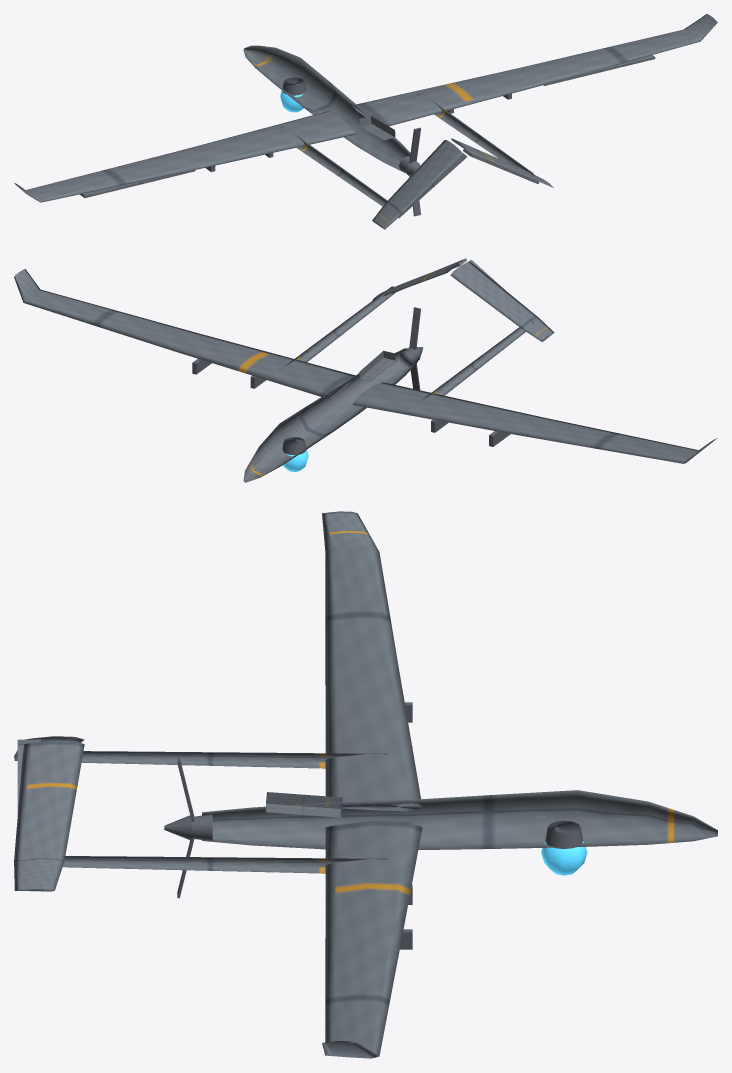
Rendered from bayraktar_tb2_lod2.glb.
The picture shows the model from 3 angles, top to bottom: view 1: azimuth 30°, elevation 25°; view 2: azimuth 150°, elevation 25°; view 3: azimuth 270°, elevation 25°; orthographic projection. The views are drawn at different scales.
Visible parts, largest first — view 1: airframe_hull, propeller_assembly, aileron_port, aileron_stbd; view 2: airframe_hull, propeller_assembly; view 3: airframe_hull, eoir_turret, propeller_assembly.
Part boxes in pixels (box(x1,y1,x2,y2)): airframe_hull: box(14, 14, 717, 229); propeller_assembly: box(406, 127, 420, 216); aileron_port: box(80, 170, 195, 197); aileron_stbd: box(543, 55, 655, 85); airframe_hull: box(14, 260, 717, 482); propeller_assembly: box(408, 307, 423, 390); airframe_hull: box(14, 511, 717, 1058); eoir_turret: box(541, 841, 587, 875); propeller_assembly: box(164, 757, 194, 898).
Bounding box in the file's own units: 11.9 × 1.65 × 6.69.
Materials: 3 (1 with a texture image).
